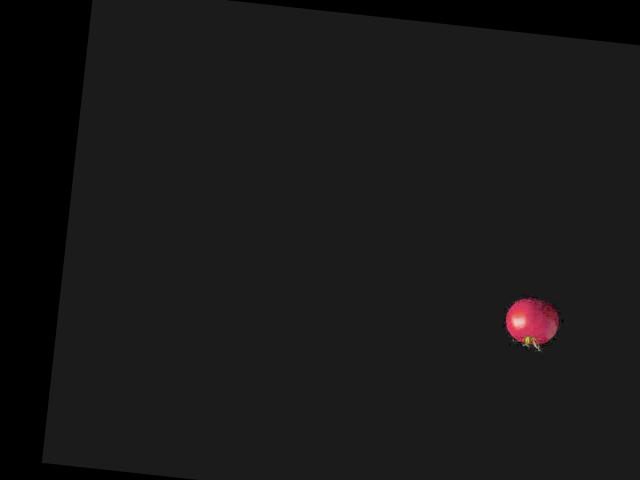tomato: (504, 297, 560, 346)
